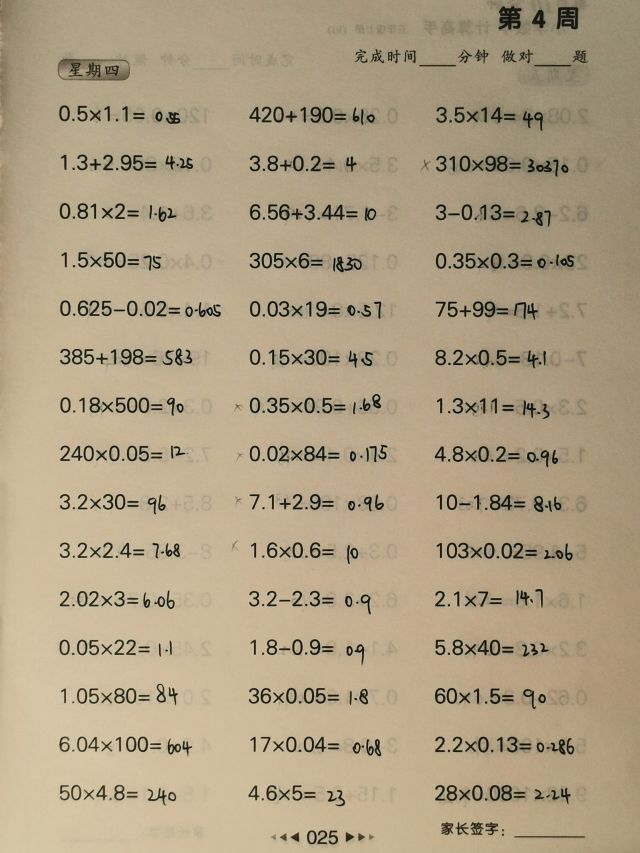equation: (54, 295, 224, 321), (231, 391, 384, 419), (419, 150, 572, 178), (235, 440, 390, 466), (233, 488, 387, 514), (431, 731, 578, 757), (245, 585, 375, 614), (432, 537, 576, 563), (55, 100, 183, 129), (58, 679, 181, 709), (432, 248, 579, 273), (54, 731, 195, 757), (247, 634, 369, 664), (245, 731, 385, 757), (244, 296, 384, 322), (243, 777, 353, 810), (57, 344, 196, 370), (430, 441, 561, 468), (57, 393, 188, 420), (245, 199, 381, 225), (244, 101, 379, 127), (243, 683, 373, 710), (431, 782, 576, 806), (58, 150, 197, 175), (431, 199, 555, 227), (244, 344, 377, 370), (430, 683, 549, 712), (432, 101, 547, 131), (55, 779, 180, 806), (432, 489, 564, 514), (58, 441, 190, 466), (246, 536, 363, 564), (433, 393, 554, 420), (244, 247, 365, 274), (55, 538, 185, 563), (54, 198, 179, 224), (55, 586, 178, 612), (55, 488, 169, 516), (54, 634, 175, 660), (431, 584, 547, 611), (431, 634, 551, 660), (430, 344, 549, 370), (432, 297, 543, 324), (246, 151, 362, 176), (58, 247, 164, 273)
